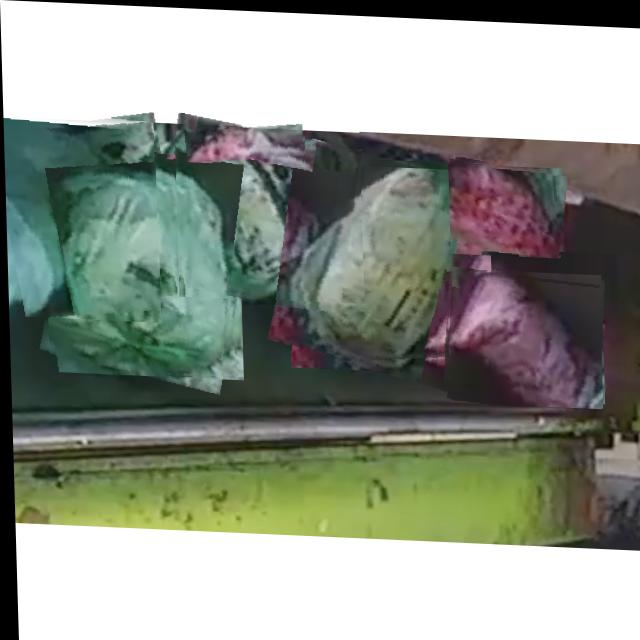general_trashbag: (46, 151, 228, 374), (285, 164, 489, 358), (175, 112, 360, 296), (3, 118, 153, 316)
other_trashbag: (447, 267, 599, 402), (449, 157, 558, 252), (188, 126, 303, 160)
